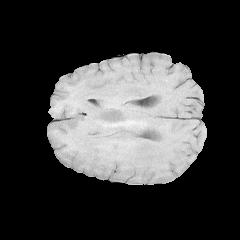glioma: (69, 104, 156, 165)
